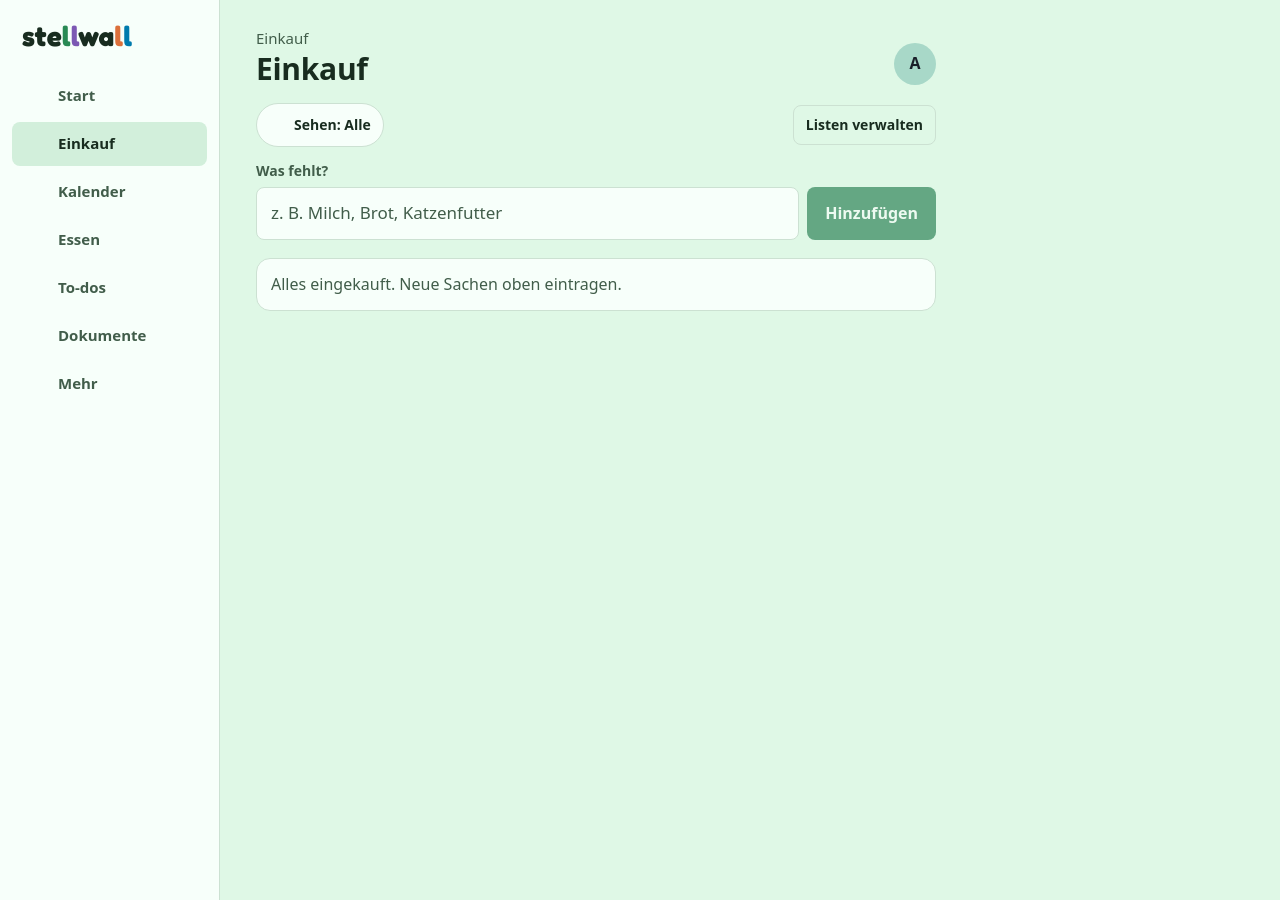
Scenario: shopping › a learned suggestion can be forgotten from the list of suggestions
In the dropdown labelled "Was fehlt?": [528, 213] box [256,187,799,240], type "schink"
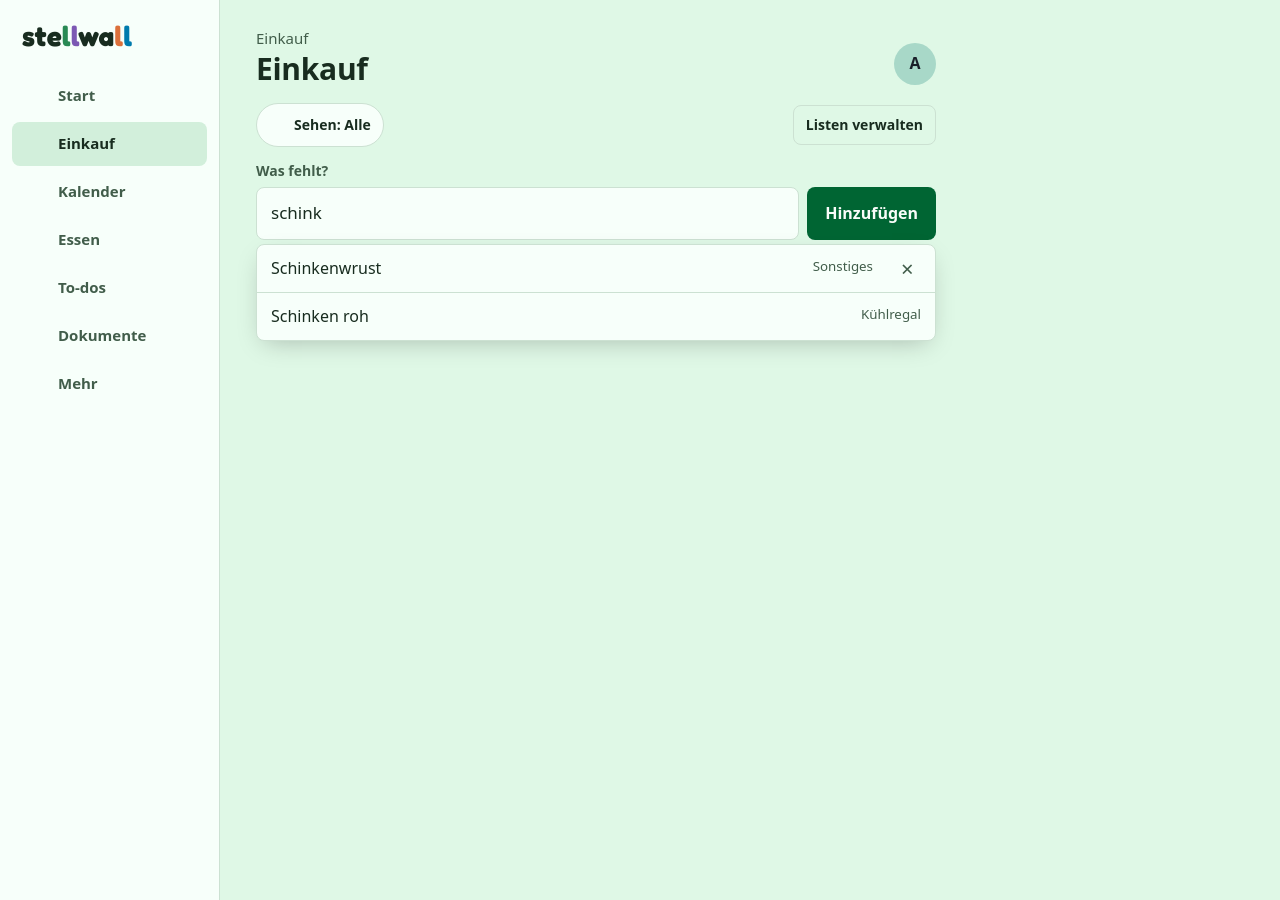
Expected: the option "Schinkenwrust Sonstiges" is shown, [257,245,887,292]
Click the button "×": [911, 268] box [887,245,935,292]
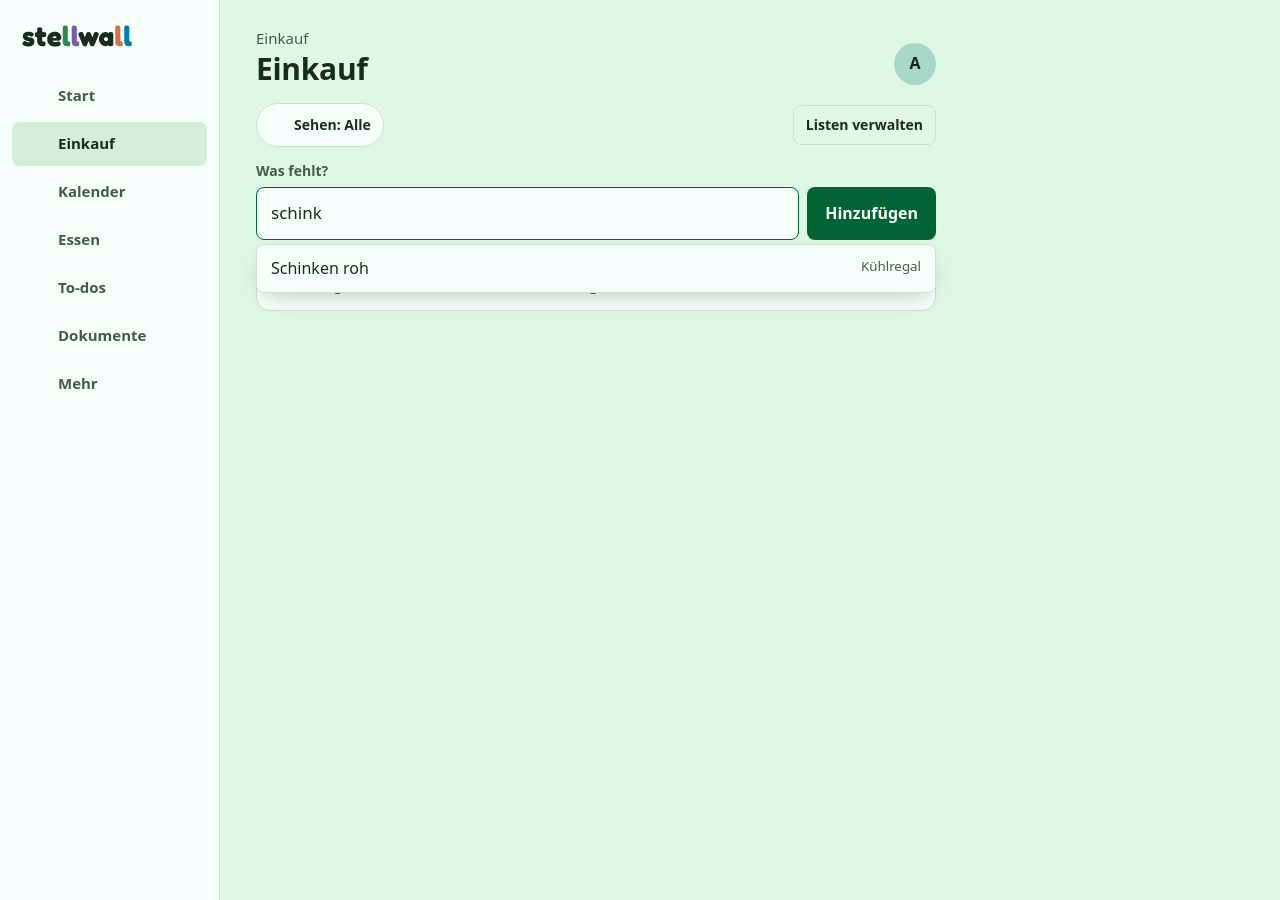
Expected: the option "Schinkenwrust" is gone
